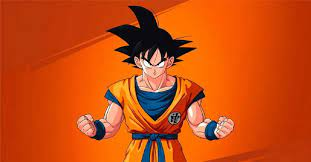Songoku: (109, 6, 194, 79)
